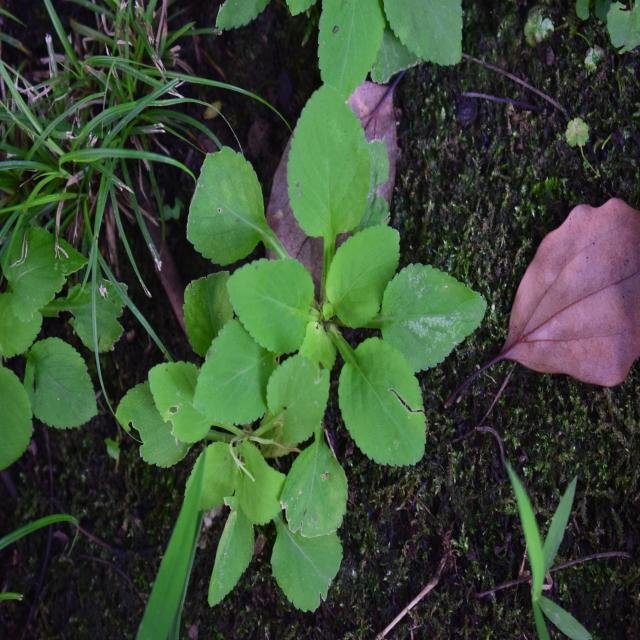Viola: (182, 120, 447, 497)
